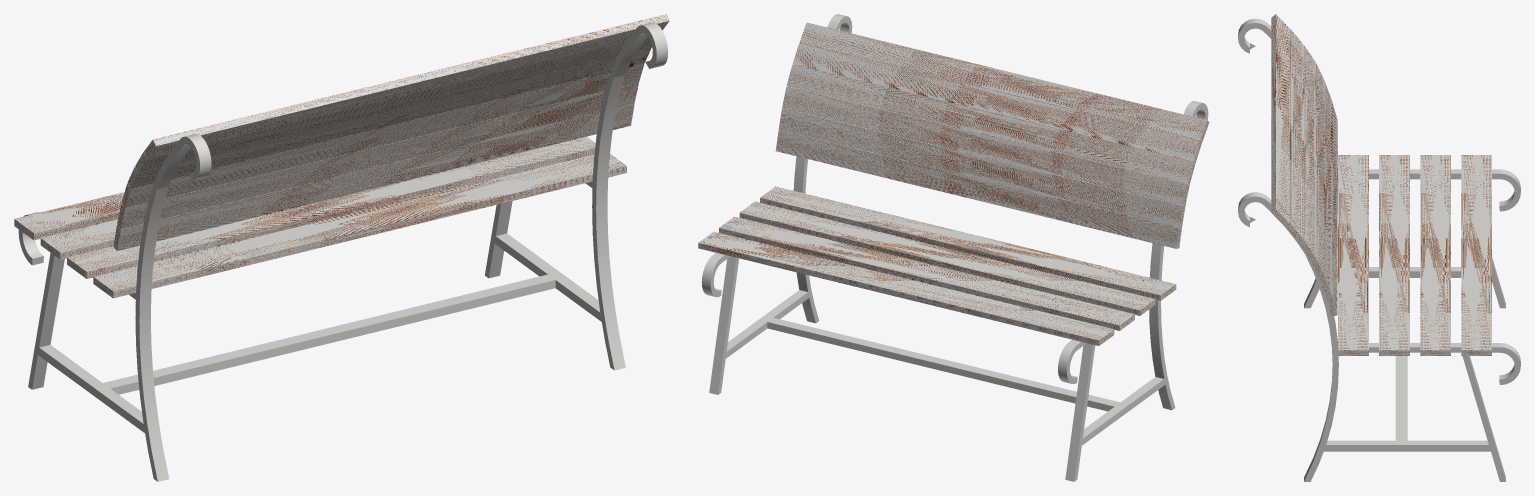
The picture shows the model from 3 angles, left to right: view 1: azimuth 30°, elevation 25°; view 2: azimuth 150°, elevation 25°; view 3: azimuth 270°, elevation 25°; orthographic projection. The views are drawn at different scales.
Parts seen in each view (by area): view 1: mesh3_mesh3-geometry, mesh4_mesh4-geometry, mesh1_mesh1-geometry; view 2: mesh3_mesh3-geometry, mesh4_mesh4-geometry, mesh1_mesh1-geometry; view 3: mesh4_mesh4-geometry, mesh3_mesh3-geometry, mesh1_mesh1-geometry.
Boxes of the visible parts, bbox=[...] form: mesh3_mesh3-geometry: bbox=[113, 14, 669, 250]; mesh4_mesh4-geometry: bbox=[14, 136, 626, 298]; mesh1_mesh1-geometry: bbox=[18, 22, 668, 481]; mesh3_mesh3-geometry: bbox=[776, 22, 1209, 248]; mesh4_mesh4-geometry: bbox=[698, 186, 1176, 345]; mesh1_mesh1-geometry: bbox=[701, 14, 1208, 481]; mesh4_mesh4-geometry: bbox=[1338, 155, 1491, 355]; mesh3_mesh3-geometry: bbox=[1271, 14, 1337, 316]; mesh1_mesh1-geometry: bbox=[1238, 18, 1520, 481].
Bounding box in the file's own units: 0.7372 × 0.5027 × 0.4514.
